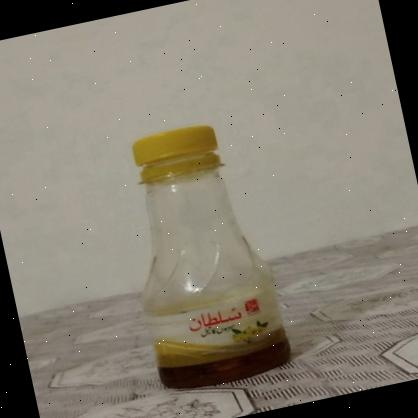bottle: (94, 101, 309, 400)
cap: (128, 115, 232, 188)
label: (144, 278, 292, 390)
